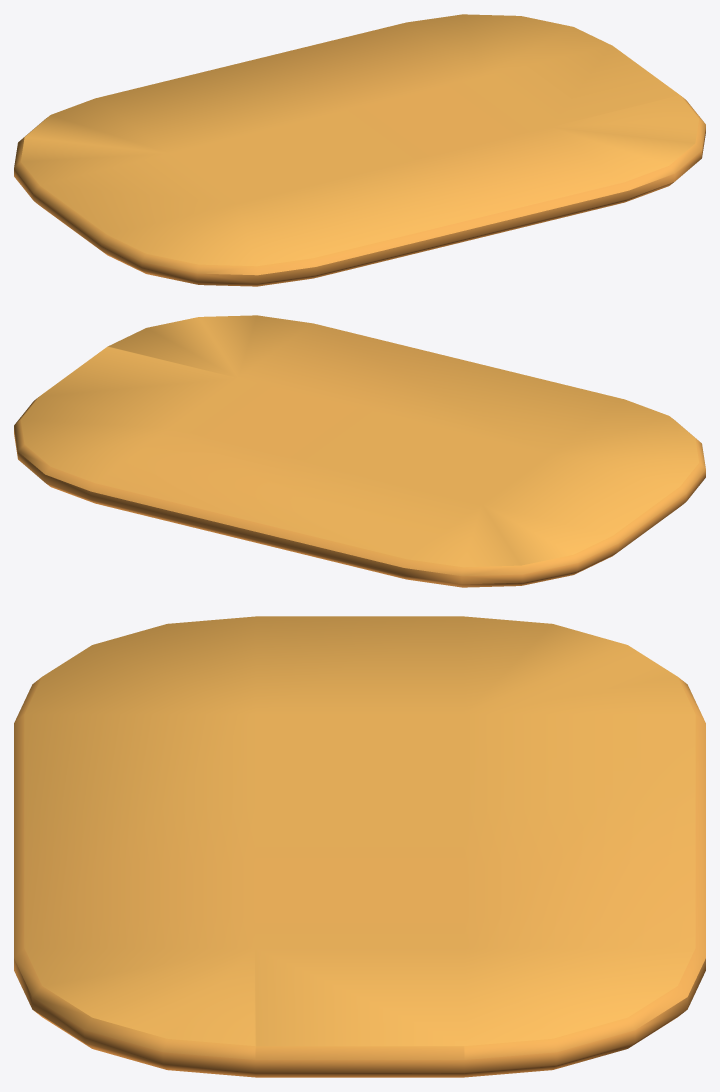
File: kay-tapete-oval.gltf
3 renders of one model, top to bottom at view 1: azimuth 30°, elevation 25°; view 2: azimuth 150°, elevation 25°; view 3: azimuth 270°, elevation 25°, orthographic. The views are drawn at different scales.
Visible parts, largest first — view 1: rug_oval_A; view 2: rug_oval_A; view 3: rug_oval_A.
Boxes of the visible parts, box(x1,y1,x2,y2) form: rug_oval_A: box(14, 14, 705, 286); rug_oval_A: box(14, 315, 705, 587); rug_oval_A: box(14, 616, 705, 1077).
Size of the model in its own units: 1.95 by 0.065 by 1.3.
1 material, 1 textured.
